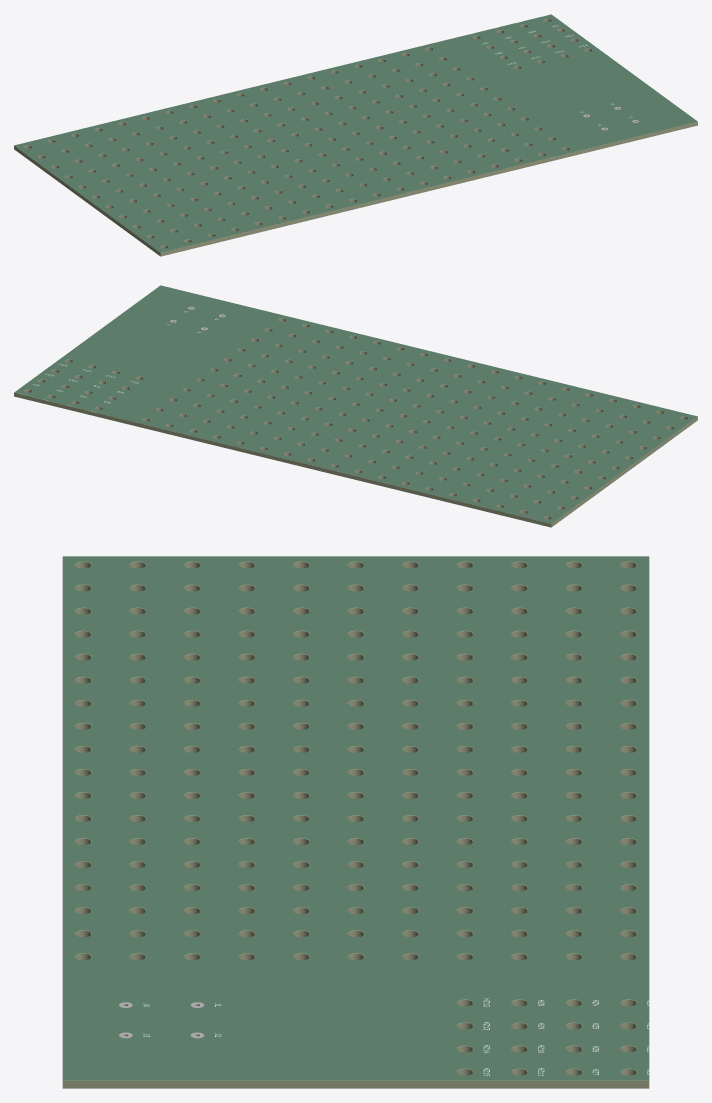
Rendered from board.glb.
3 renders of one model, top to bottom at view 1: azimuth 30°, elevation 25°; view 2: azimuth 150°, elevation 25°; view 3: azimuth 270°, elevation 25°, orthographic. The views are drawn at different scales.
Visible parts, largest first — view 1: board_PCB, board_soldermask; view 2: board_PCB, board_soldermask; view 3: board_PCB, board_soldermask.
Part boxes in pixels (x1,y1,x2,y2): board_PCB: (14,15,697,256); board_soldermask: (14,14,697,252); board_PCB: (14,286,697,527); board_soldermask: (14,285,697,523); board_PCB: (62,557,649,1088); board_soldermask: (62,556,649,1080).
Size of the model in its own units: 0.2312 by 0.00163 by 0.1093.
